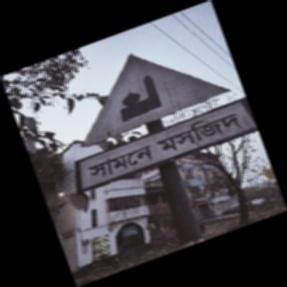Mosque in front: (83, 53, 250, 202)
